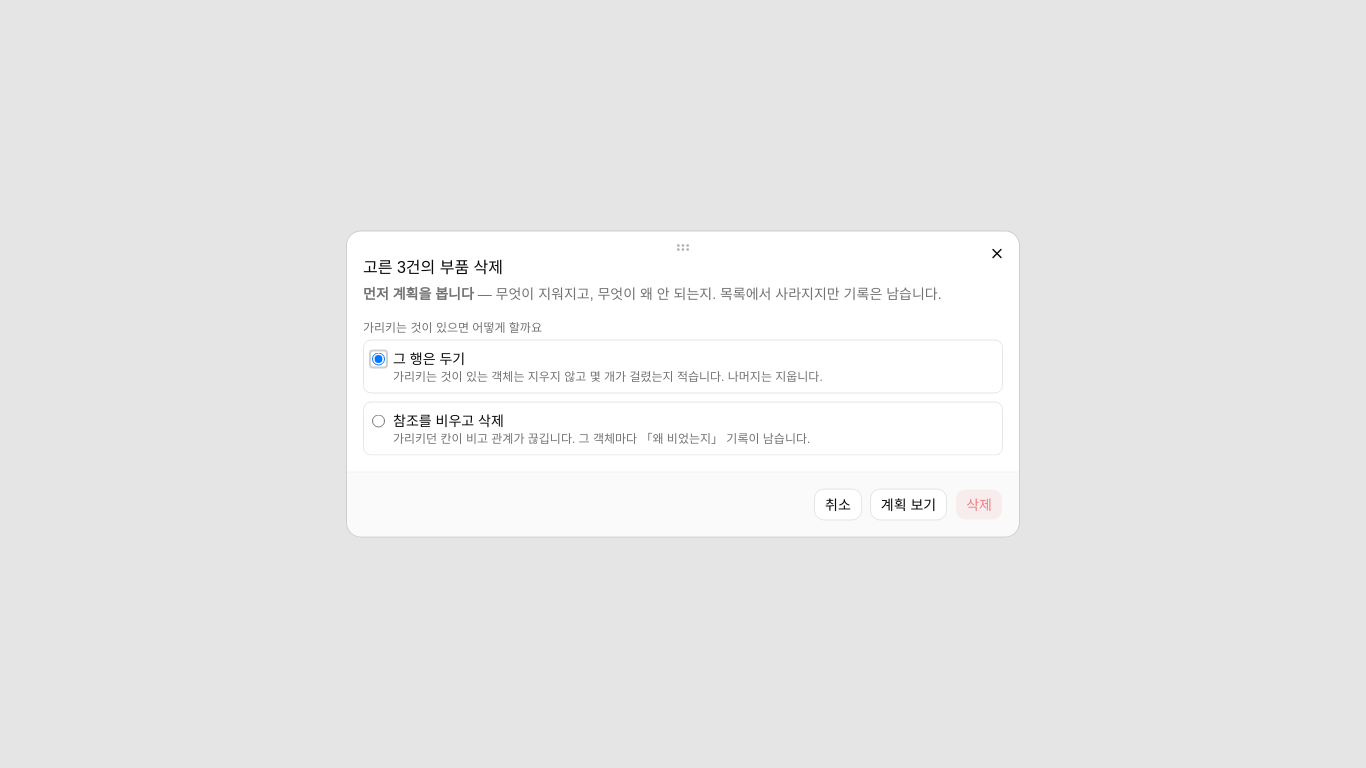
여럿 골라 삭제 › 적용하면 목록에 알린다
Click the button "계획 보기": (908, 504) [870,488,947,520]
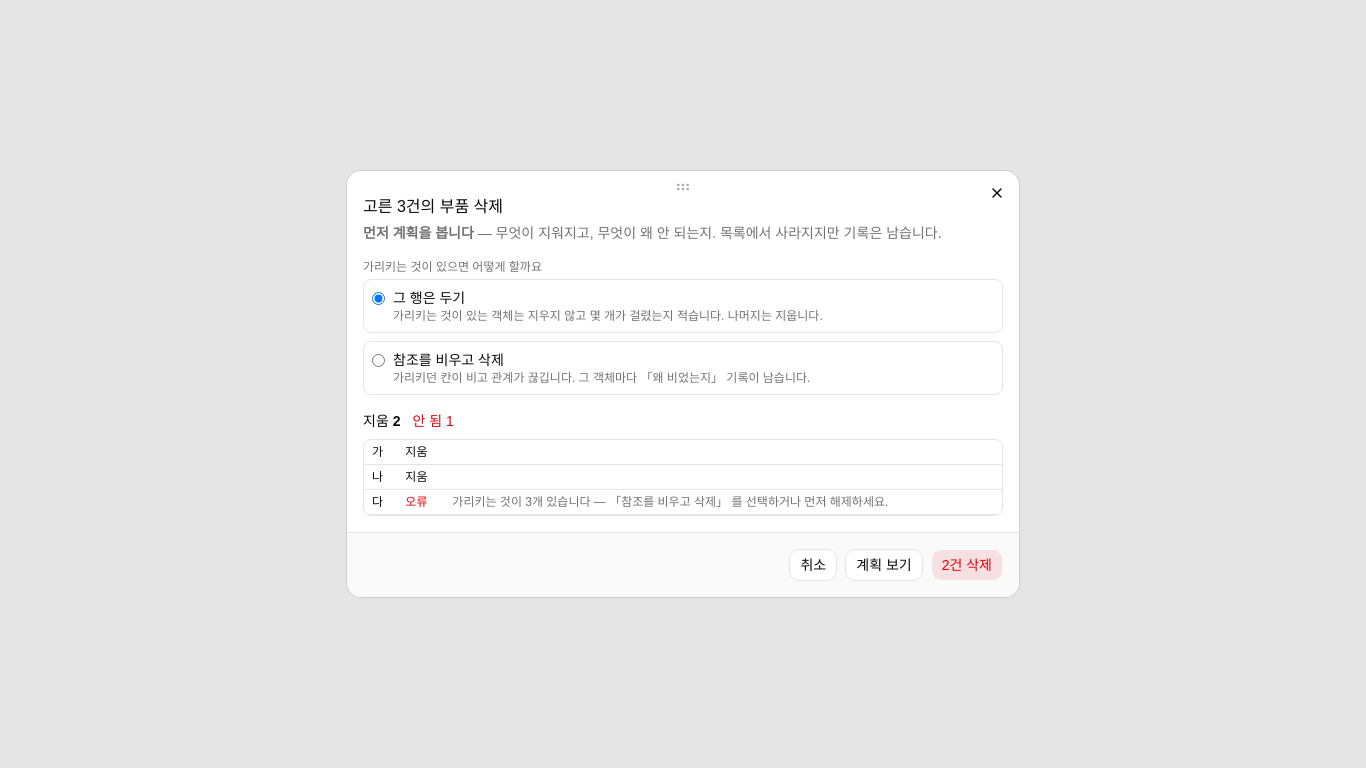
Click the button "2건 삭제": (967, 565) [931,549,1003,581]
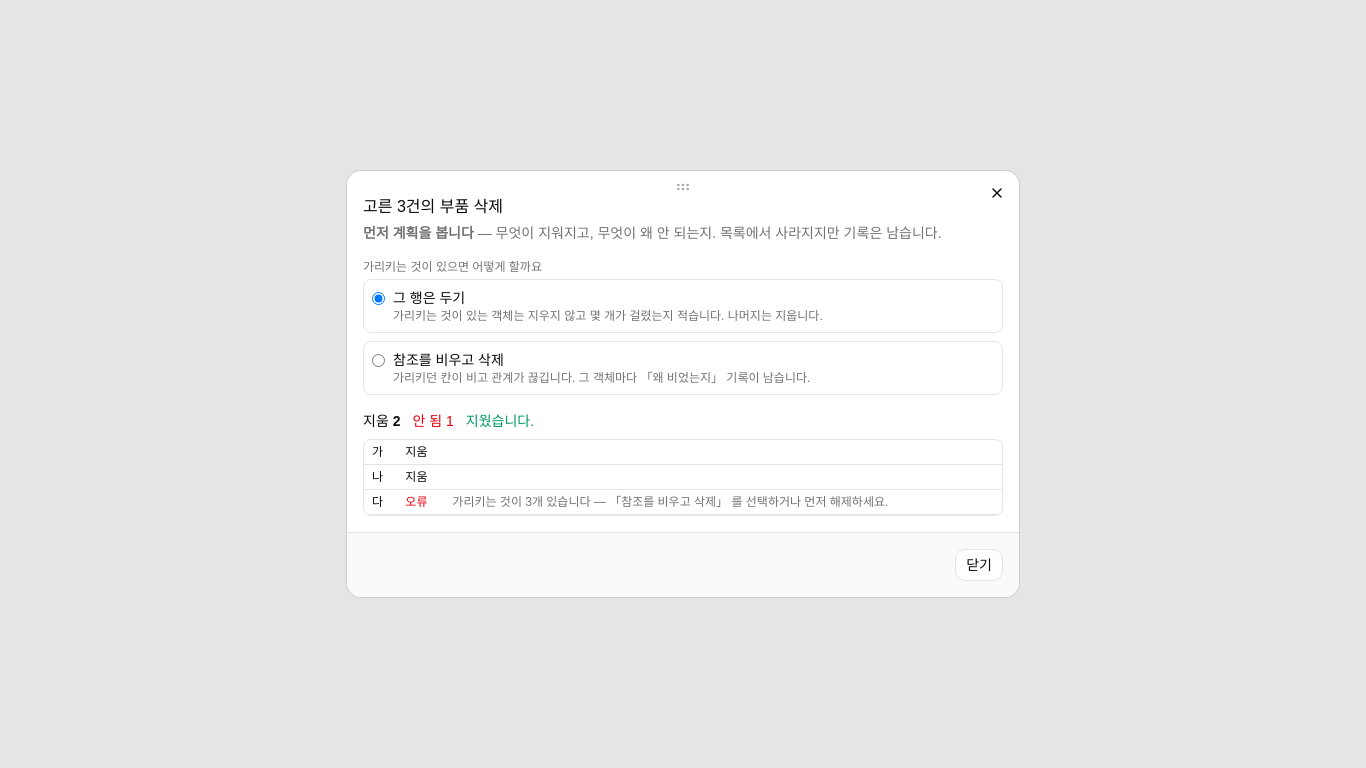
Now the text "지웠습니다." is shown, box [466,411,534,431]
